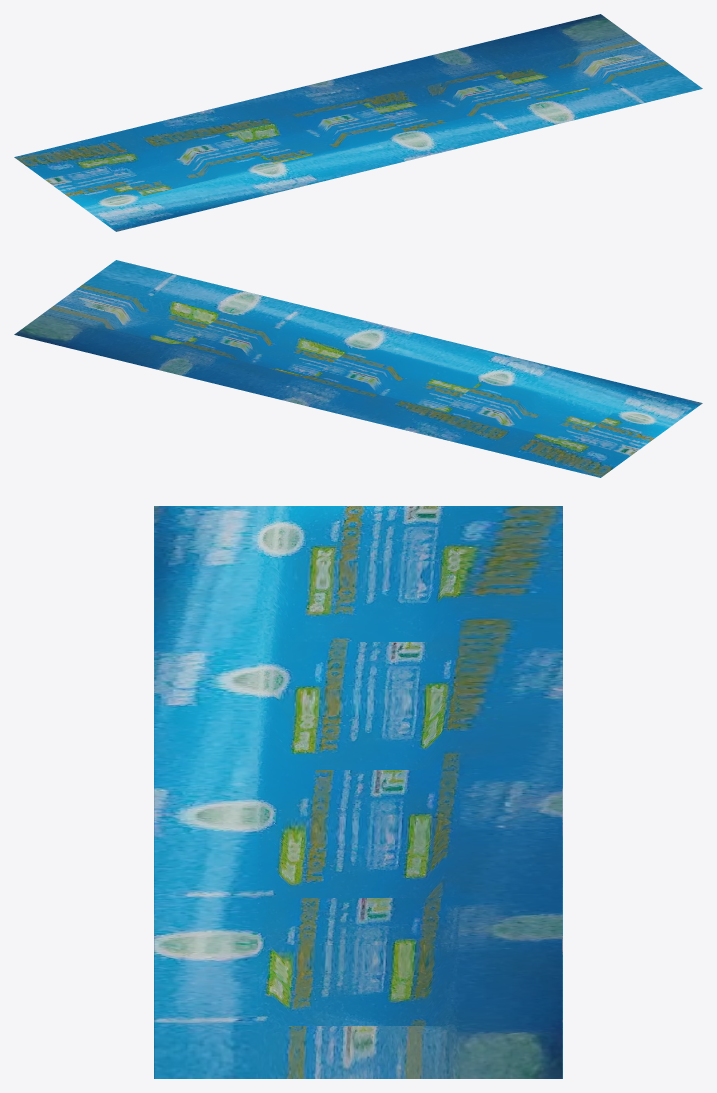
Rendered from FoilText.fbx.
3 views of the same model, one above another, from view 1: azimuth 30°, elevation 25°; view 2: azimuth 150°, elevation 25°; view 3: azimuth 270°, elevation 25° (orthographic). The views are drawn at different scales.
Parts seen in each view (by area): view 1: Plane; view 2: Plane; view 3: Plane.
Boxes of the visible parts, x1,y1,x2,y2 form: Plane: [14, 14, 702, 231]; Plane: [14, 260, 702, 477]; Plane: [154, 506, 562, 1078].
Size of the model in its own units: 1.99 by 0.0268 by 0.6.
Materials: 1 (1 with a texture image).
